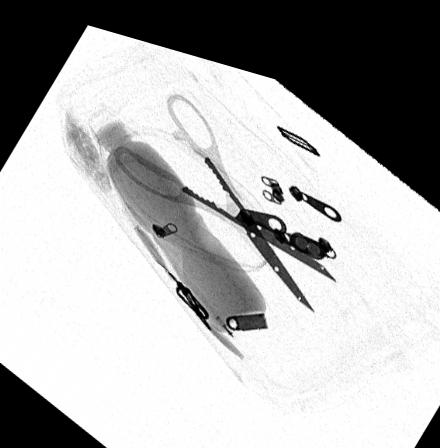Scissors: (108, 83, 340, 298)
